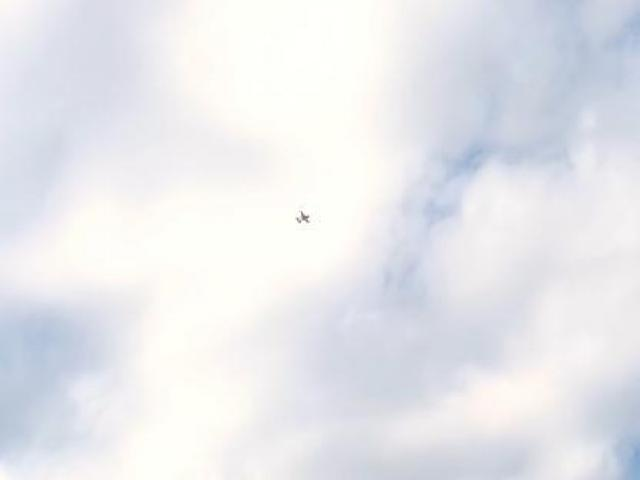uav: (292, 210, 313, 227)
